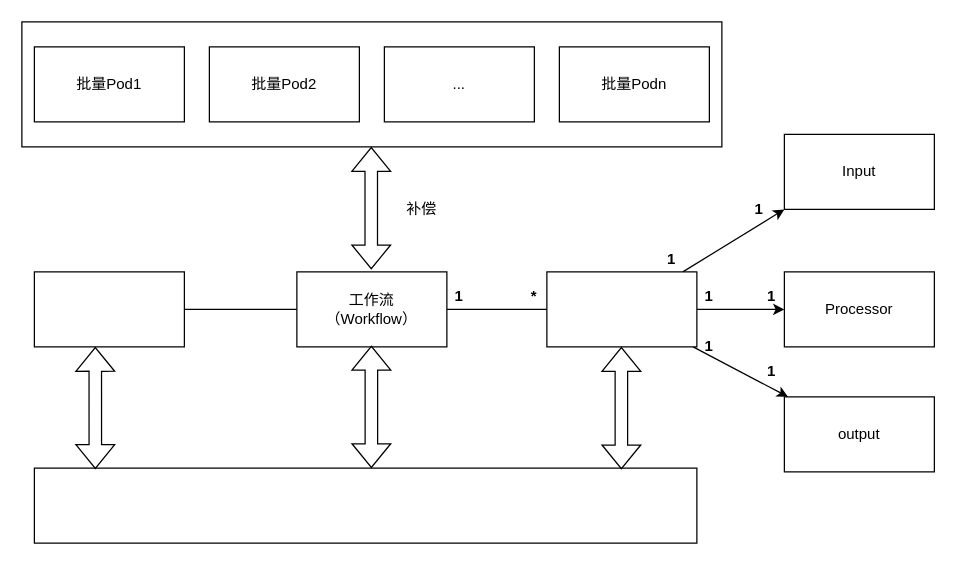
Some shapes in this 956 by 565 pixel diagram are drawn without their labels. Here are the shapes that lost their labels. From the top down, the centre of each, then its label:
At point 108,309: "工作流触发器".
At point 621,309: "任务 （task）".
At point 365,505: "工作流Repository".
